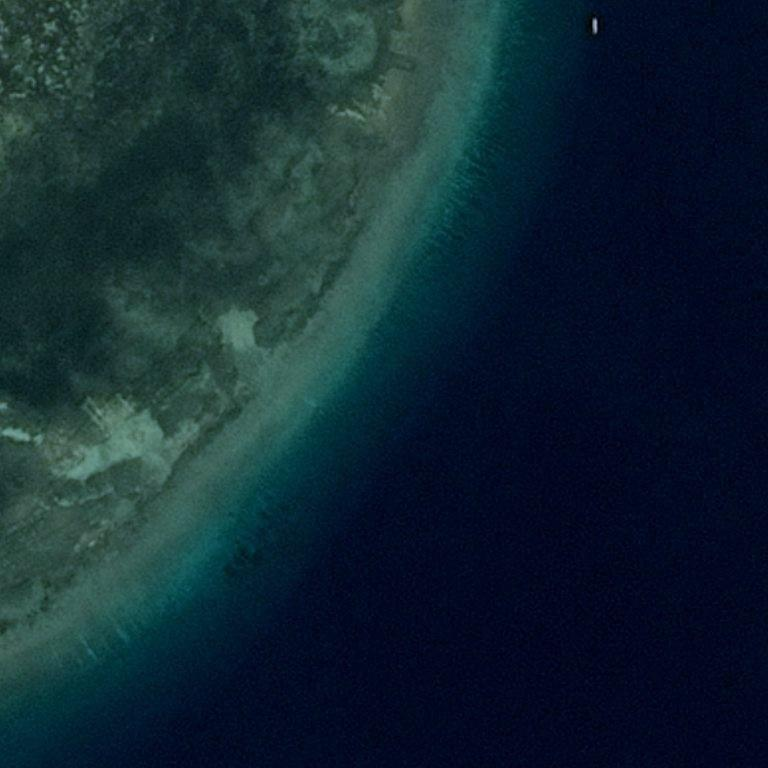ship: (592, 17, 600, 36)
